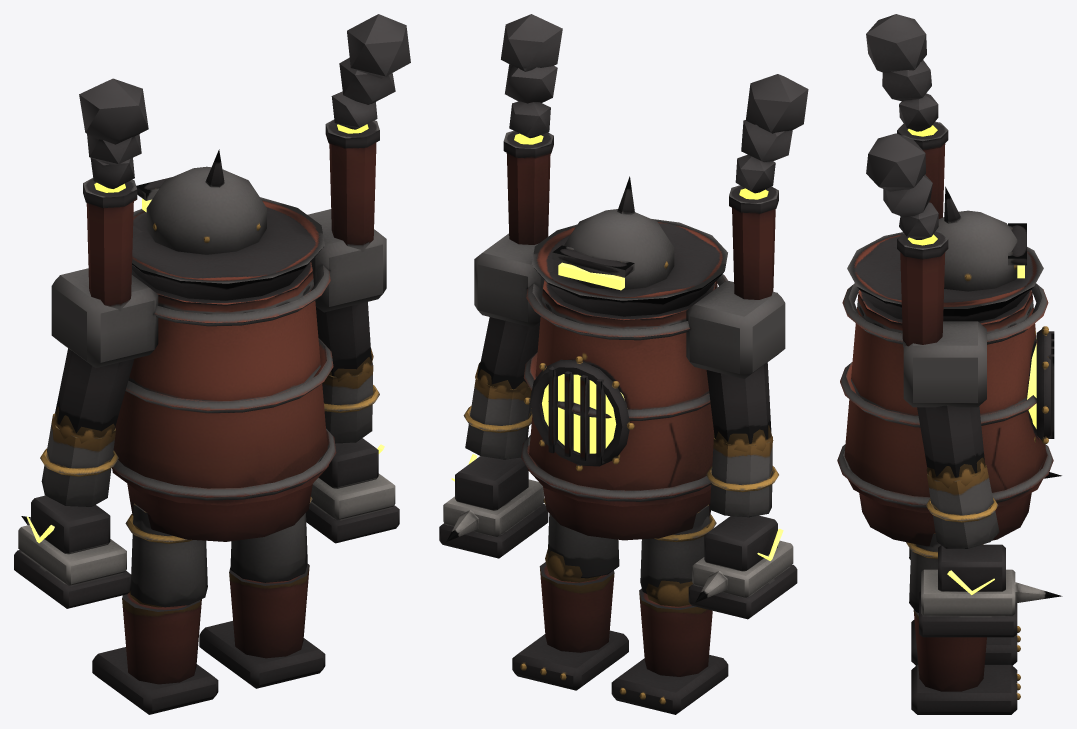
File: boss_ember_titan.fbx
3 renders of one model, left to right at view 1: azimuth 30°, elevation 25°; view 2: azimuth 150°, elevation 25°; view 3: azimuth 270°, elevation 25°, orthographic. The views are drawn at different scales.
Visible parts, largest first — view 1: Body, ArmL, ArmR, ForearmL, ForearmR, KneeL, KneeR, Head, LegL, LegR; view 2: Body, ArmL, ArmR, ForearmL, ForearmR, KneeR, KneeL, Head, LegL, LegR, Body_Glow_Molten, Head_Glow_Molten; view 3: Body, ArmR, ForearmR, KneeR, ArmL, Head, KneeL, LegR, Body_Glow_Molten.
Part boxes in pixels (x1,y1,x2,y2): Body: (112,197,336,541); ArmL: (51,78,158,433); ArmR: (307,14,410,376); ForearmL: (14,406,131,608); ForearmR: (306,347,399,543); KneeL: (92,591,218,714); KneeR: (199,564,325,688); Head: (136,149,266,254); LegL: (125,503,207,607); LegR: (230,497,312,582); Body: (521,219,727,540); ArmL: (686,74,808,443); ArmR: (474,14,562,389); ForearmL: (688,425,797,619); ForearmR: (439,362,548,558); KneeR: (512,546,628,690); KneeL: (611,580,728,714); Head: (552,176,674,290); LegL: (640,504,716,593); LegR: (543,498,619,578); Body_Glow_Molten: (542,374,624,453); Head_Glow_Molten: (558,262,624,290); Body: (837,232,1054,546); ArmR: (866,133,986,477); ForearmR: (919,457,1062,637); KneeR: (911,610,1020,714); ArmL: (866,14,948,218); Head: (936,186,1026,291); KneeL: (911,620,1020,665); LegR: (906,533,983,612); Body_Glow_Molten: (1027,338,1036,428).
Size of the model in its own units: 1083 by 2022 by 685.
3 materials, 1 textured.
